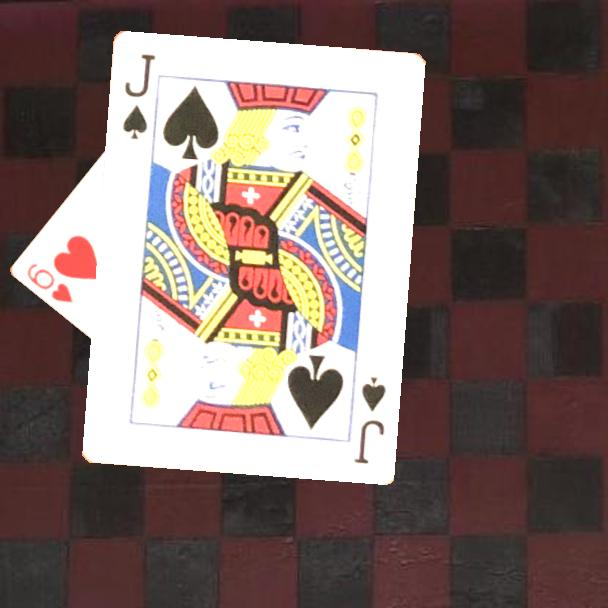h06: (23, 260, 76, 306)
s11: (118, 50, 158, 141), (350, 373, 388, 467)
